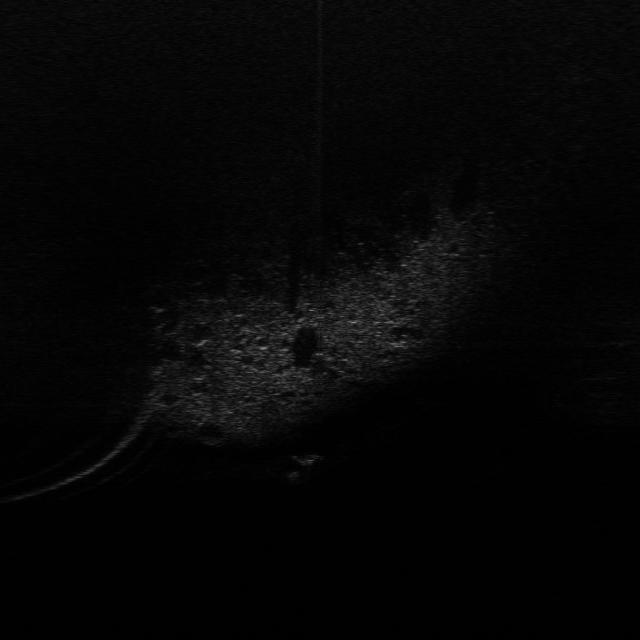cube: (287, 449, 324, 468)
cylinder: (284, 466, 304, 488)
